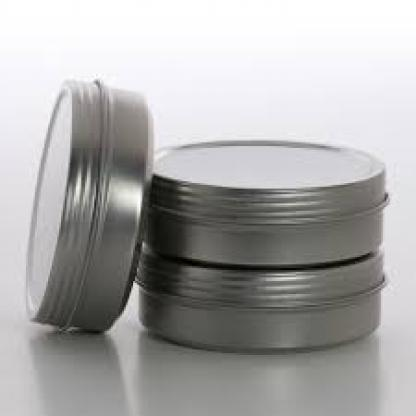METAL: (22, 76, 154, 335), (146, 139, 385, 268), (135, 248, 381, 344)
